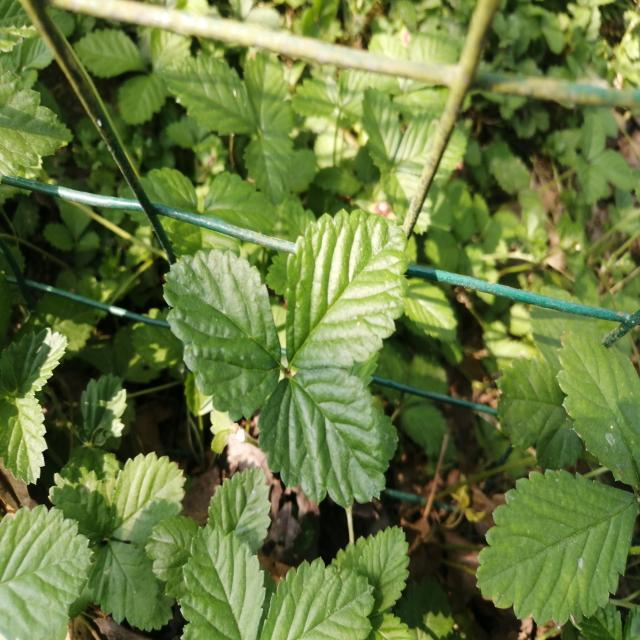Mock_strawberry: (160, 212, 411, 493)
